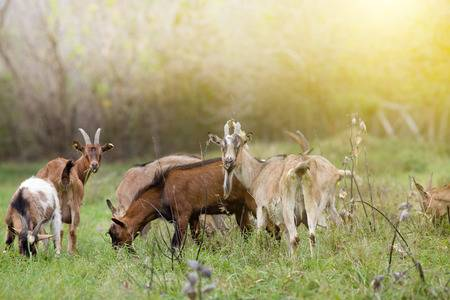sheep: (207, 116, 324, 257), (110, 155, 254, 244), (48, 125, 111, 255), (5, 173, 63, 262), (405, 171, 450, 233)
